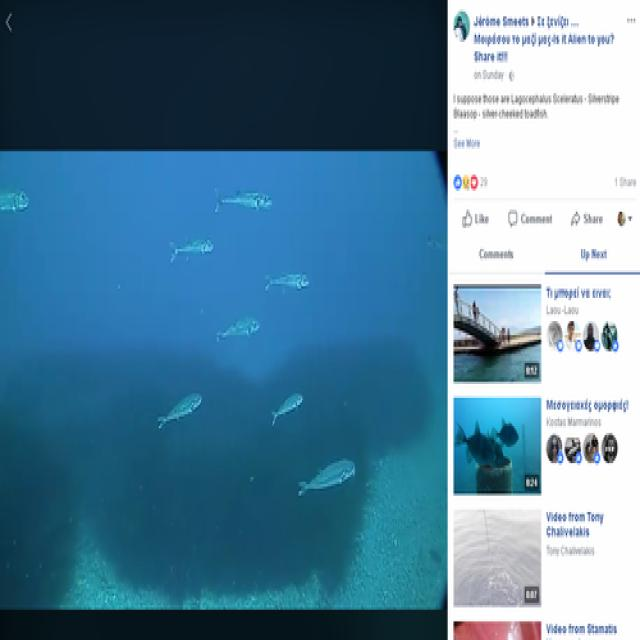Balik: (299, 459, 355, 495), (455, 422, 495, 465), (158, 394, 202, 428), (216, 189, 272, 211), (217, 317, 259, 342), (272, 394, 303, 425), (171, 240, 213, 262), (265, 273, 309, 290), (492, 419, 518, 446), (0, 191, 29, 214)
